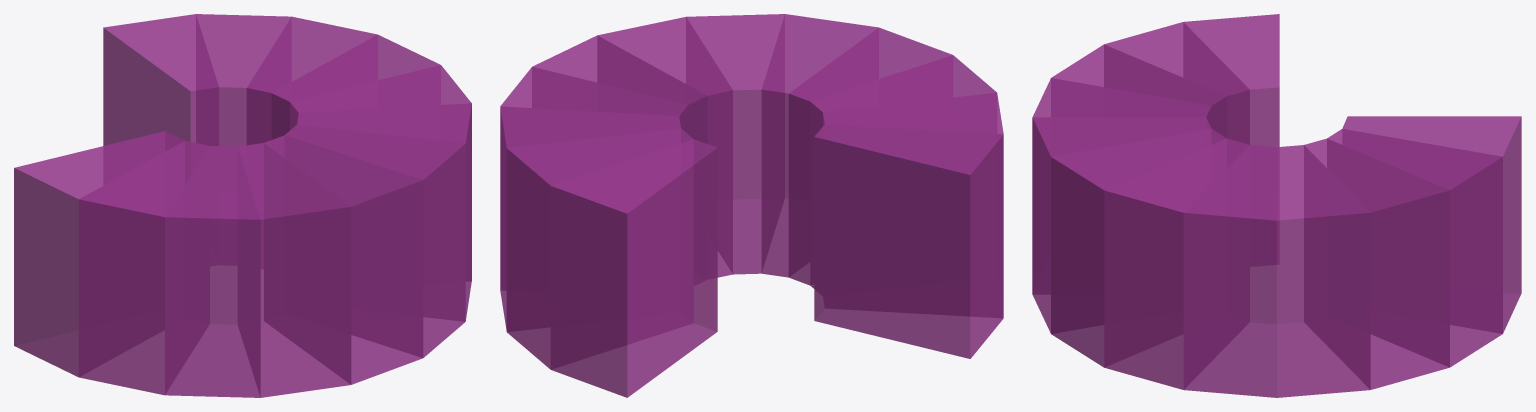
The model's file is SM_Bld_Wall_Fort_L_Corner_Tower_02_Base_Collision.fbx.
3 renders of one model, left to right at view 1: azimuth 30°, elevation 25°; view 2: azimuth 150°, elevation 25°; view 3: azimuth 270°, elevation 25°, orthographic. The views are drawn at different scales.
Visible parts, largest first — view 1: SM_Bld_Wall_Fort_L_Corner_Tower_02_Base_Collision; view 2: SM_Bld_Wall_Fort_L_Corner_Tower_02_Base_Collision; view 3: SM_Bld_Wall_Fort_L_Corner_Tower_02_Base_Collision.
Part boxes in pixels (x1,y1,x2,y2): SM_Bld_Wall_Fort_L_Corner_Tower_02_Base_Collision: (14,14,471,397); SM_Bld_Wall_Fort_L_Corner_Tower_02_Base_Collision: (500,14,1003,397); SM_Bld_Wall_Fort_L_Corner_Tower_02_Base_Collision: (1032,14,1521,397).
Size of the model in its own units: 1517 by 607 by 1517.
